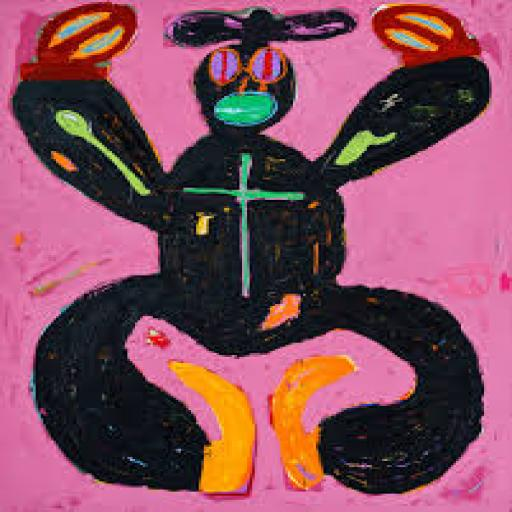person: (8, 2, 506, 510)
